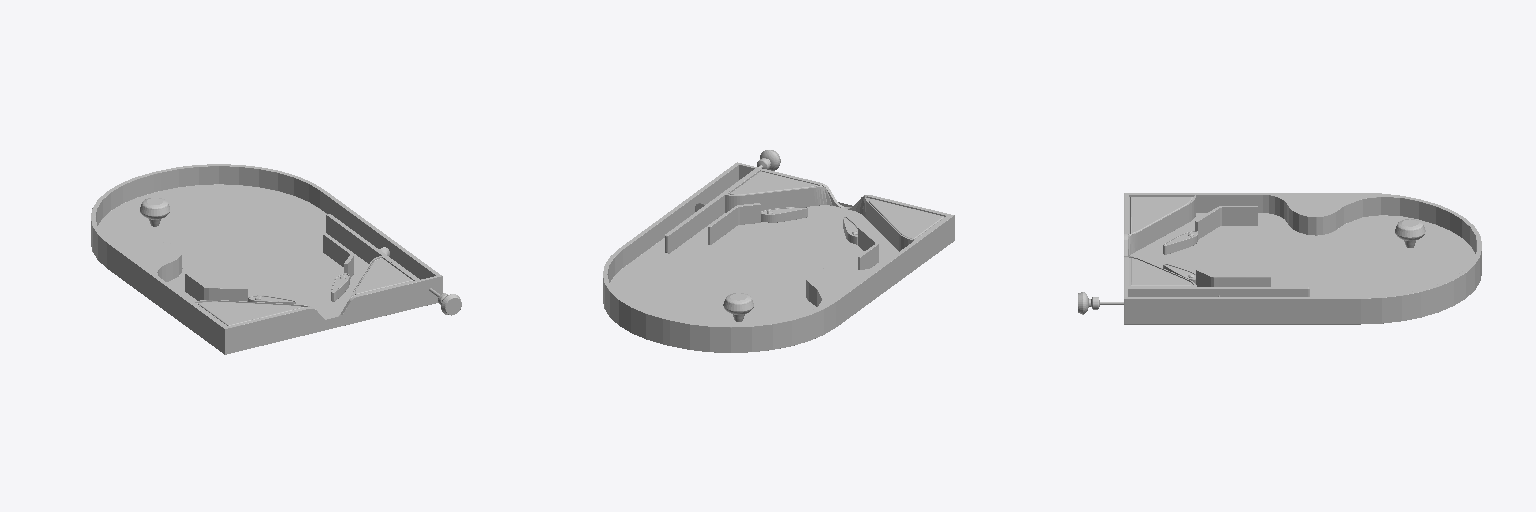
The model's file is Pinball_Board_MOD_0008.obj.
3 views of the same model, side by side, from view 1: azimuth 30°, elevation 25°; view 2: azimuth 150°, elevation 25°; view 3: azimuth 270°, elevation 25° (orthographic).
Visible parts, largest first — view 1: Cube; view 2: Cube; view 3: Cube.
Part boxes in pixels (x1,y1,x2,y2): Cube: (91, 164, 461, 354); Cube: (603, 150, 954, 352); Cube: (1078, 193, 1481, 324).
Size of the model in its own units: 2.5 by 0.3394 by 4.02.